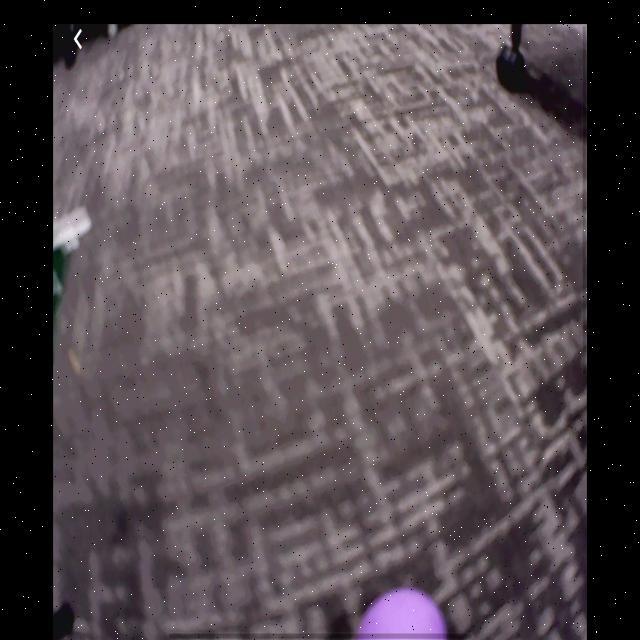ball: (358, 589, 449, 640)
